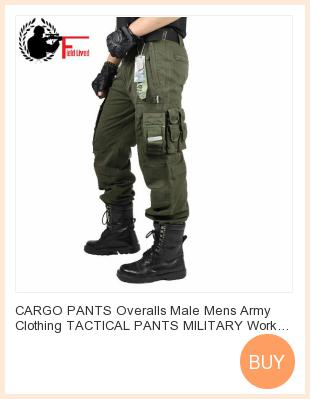pants: (90, 46, 191, 228)
